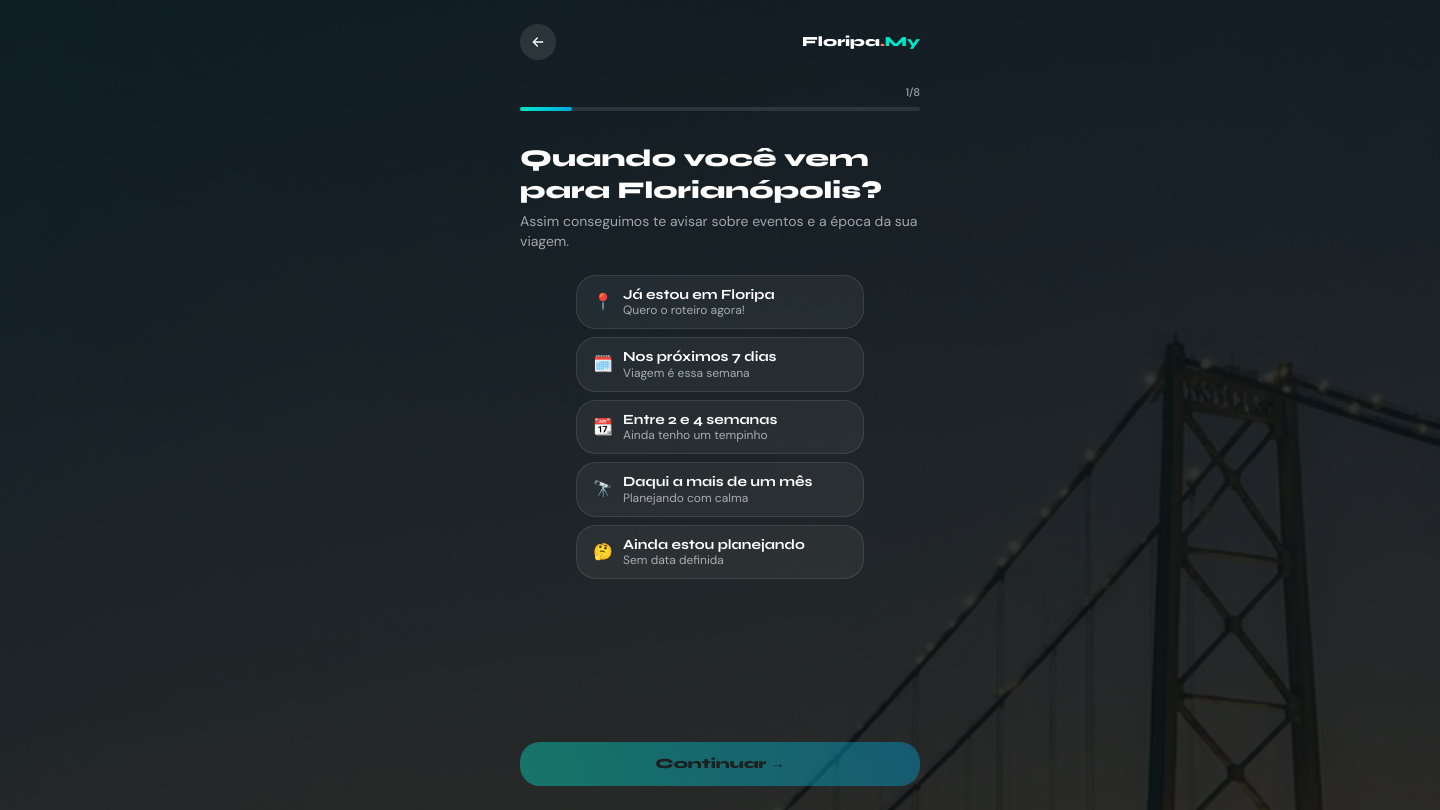
QuizPage › goes back to the previous question via the top-left back button
Click the button "📍 Já estou em Floripa Quero o roteiro agora!": click(720, 302) [576,274,864,329]
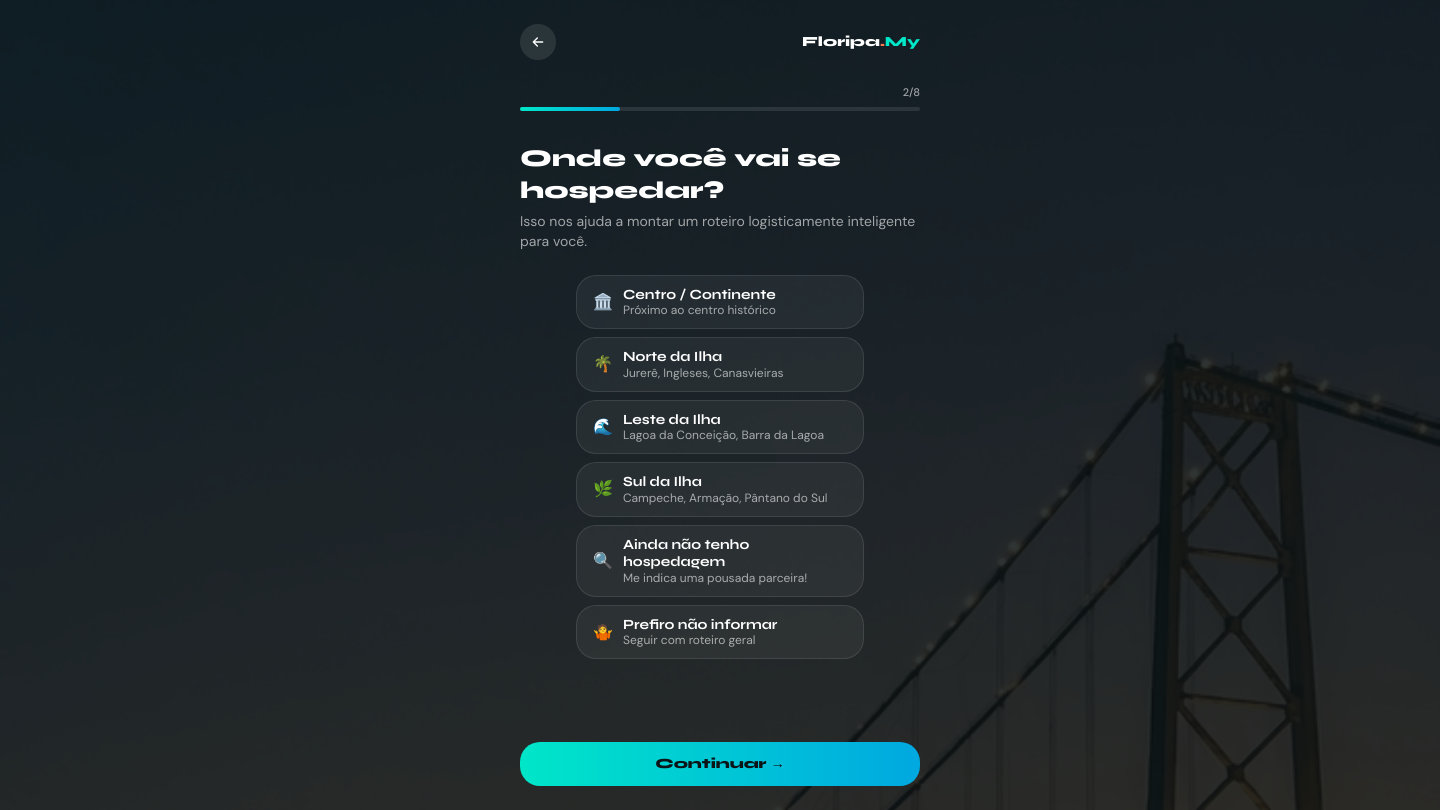
Check: the heading "Onde você vai se hospedar?" is shown, box [520,144,841,204]
Click the button named "voltar": click(538, 42) [520,24,556,60]
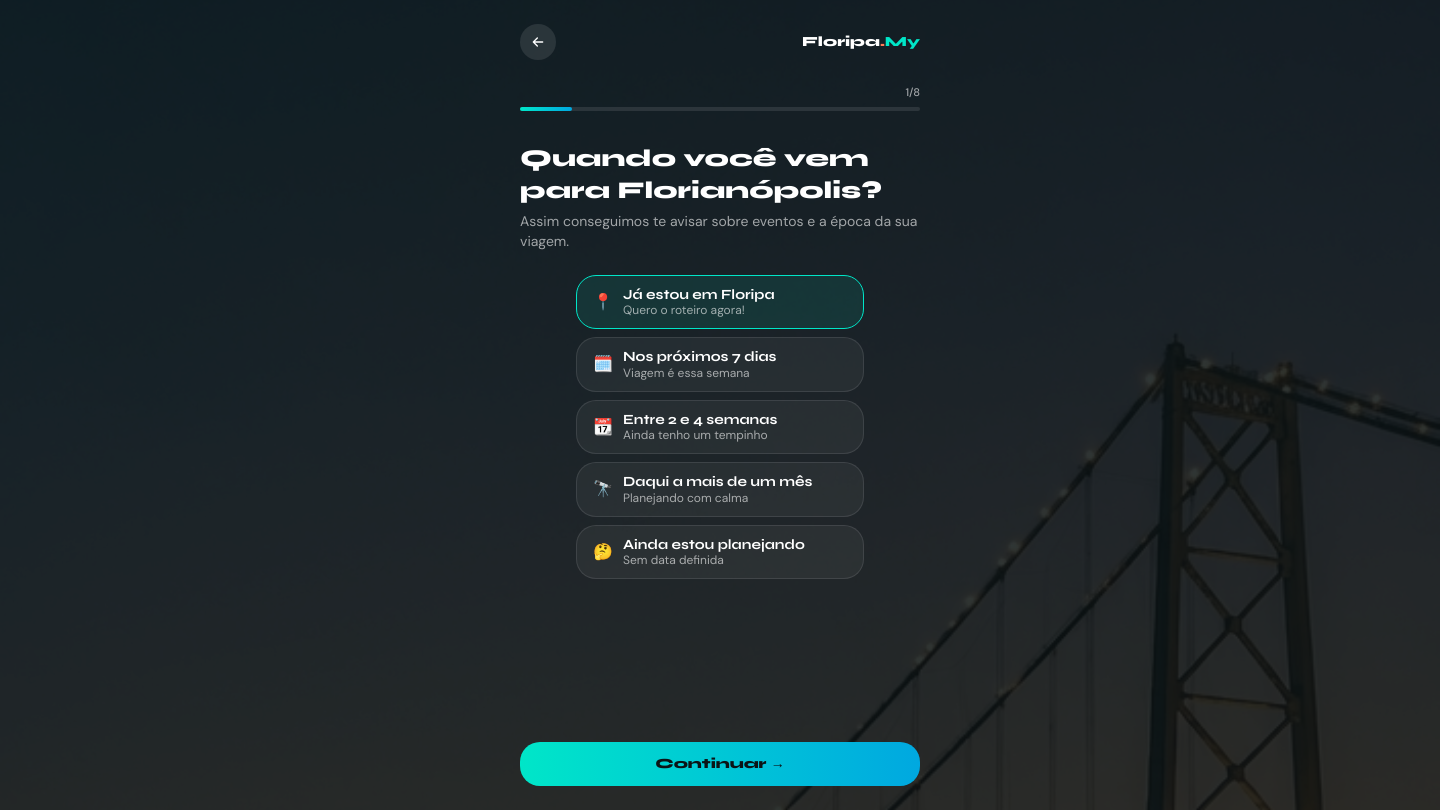
Check: the heading "Quando você vem para Florianópolis?" is shown, box [520,142,920,206]
